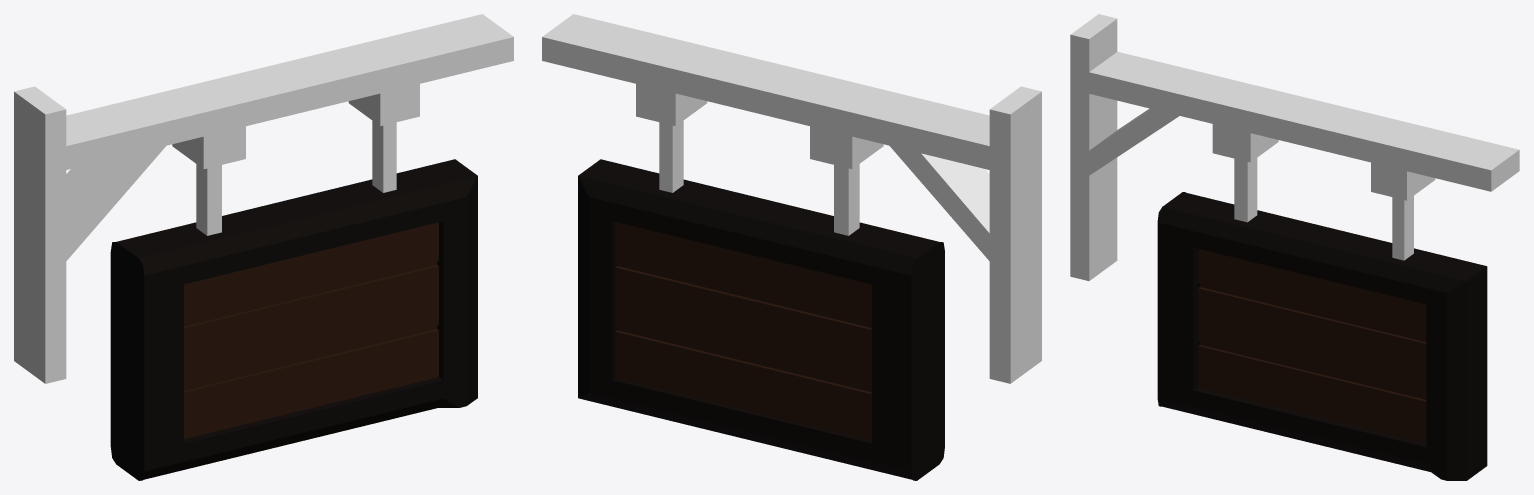
File: MarketSign02.fbx
3 renders of one model, left to right at view 1: azimuth 30°, elevation 25°; view 2: azimuth 150°, elevation 25°; view 3: azimuth 330°, elevation 25°, orthographic. The views are drawn at different scales.
Visible parts, largest first — view 1: Box046, Box042, Box044; view 2: Box046, Box042, Box044; view 3: Box042, Box046, Box044.
Part boxes in pixels (x1,y1,x2,y2): Box046: (14,14,513,383); Box042: (110,159,477,480); Box044: (184,222,438,439); Box046: (542,14,1041,383); Box042: (578,159,944,480); Box044: (615,222,871,440); Box042: (1157,192,1487,480); Box046: (1070,14,1519,280); Box044: (1198,249,1426,443).
Bounding box in the file's own units: 96.33 × 77.32 × 11.91.
